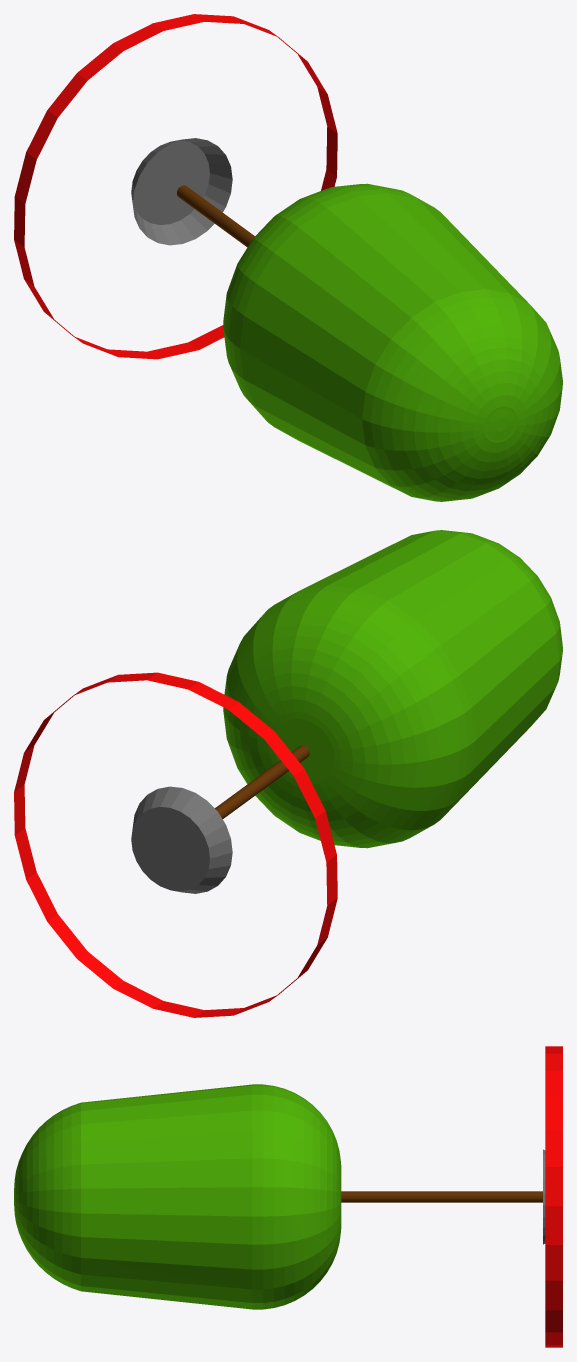
Rendered from HPS21m.obj.
3 renders of one model, top to bottom at view 1: azimuth 30°, elevation 25°; view 2: azimuth 150°, elevation 25°; view 3: azimuth 270°, elevation 25°, orthographic. The views are drawn at different scales.
Size of the model in its own units: 11.92 by 11.92 by 21.8.
